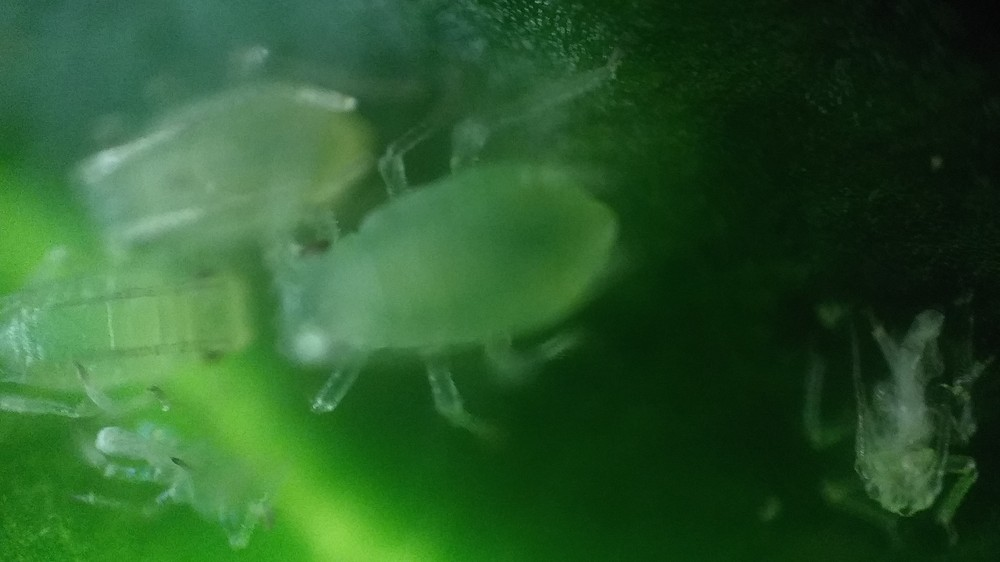Pulgon: (258, 92, 666, 442), (4, 225, 283, 431)
